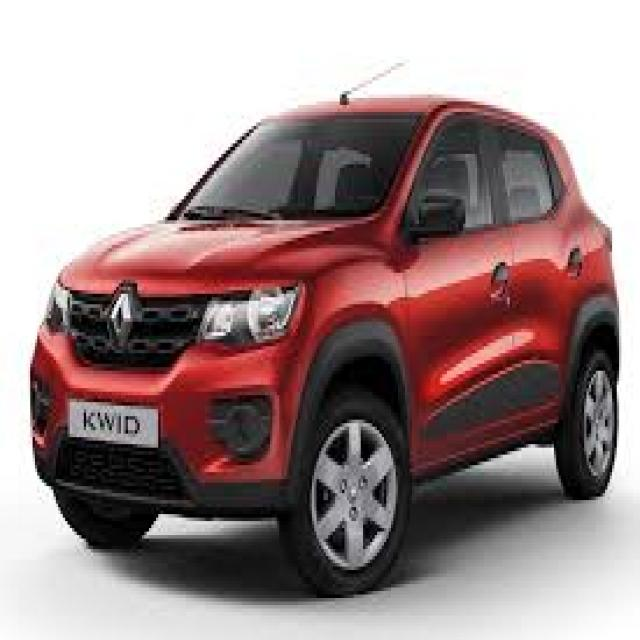car: (19, 80, 626, 572)
